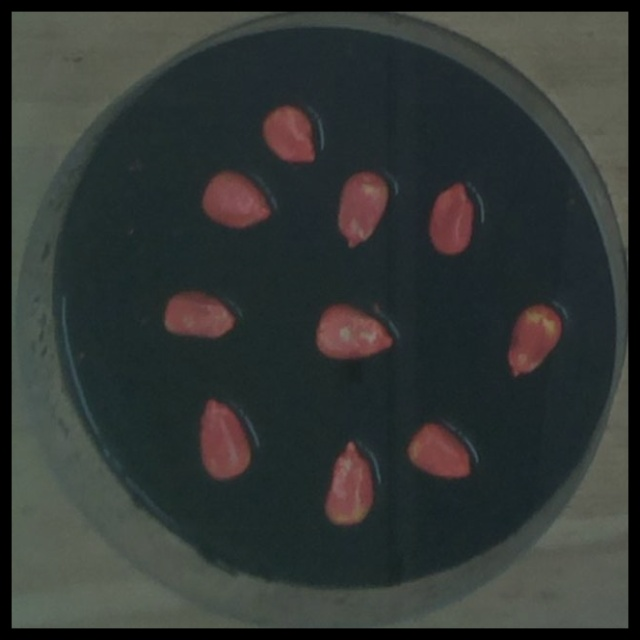Zea mays: (309, 295, 399, 367), (195, 164, 281, 236), (317, 435, 379, 532), (192, 394, 256, 487), (501, 298, 567, 386), (329, 165, 393, 255), (399, 415, 477, 486), (423, 173, 480, 263), (157, 285, 242, 344), (255, 98, 321, 171)
